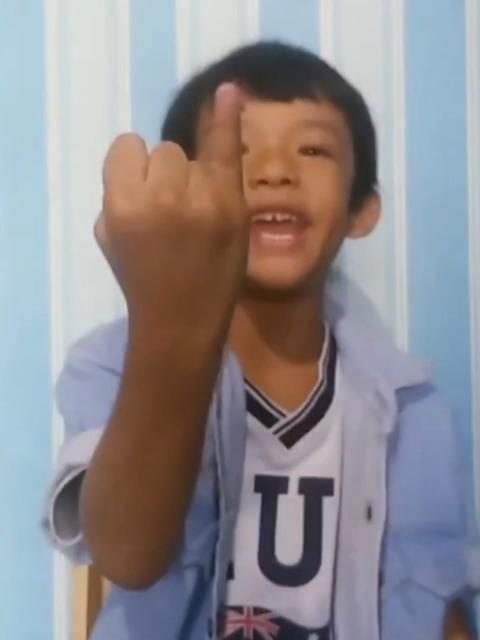J: (87, 81, 253, 322)
